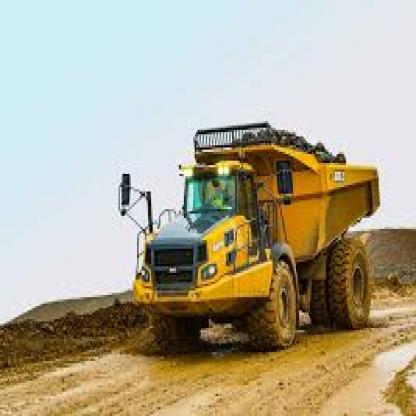dump_truck: (112, 112, 396, 361)
